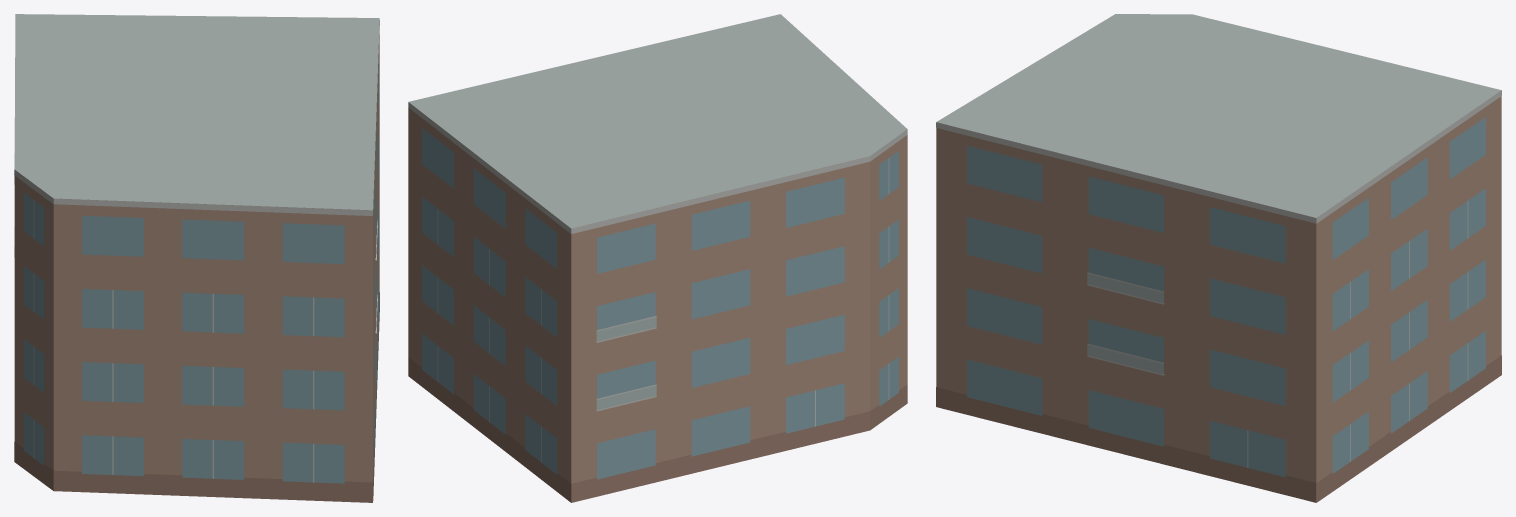
The model's file is survey-upis-32839186.glb.
3 views of the same model, side by side, from view 1: azimuth 30°, elevation 25°; view 2: azimuth 150°, elevation 25°; view 3: azimuth 270°, elevation 25° (orthographic). The views are drawn at different scales.
Parts seen in each view (by area): view 1: survey-upis-32839186.tmp; view 2: survey-upis-32839186.tmp; view 3: survey-upis-32839186.tmp.
Boxes of the visible parts, bbox=[...] form: survey-upis-32839186.tmp: bbox=[14, 14, 379, 502]; survey-upis-32839186.tmp: bbox=[408, 14, 907, 502]; survey-upis-32839186.tmp: bbox=[936, 14, 1501, 502].
Size of the model in its own units: 18.75 by 12.2 by 21.97.
